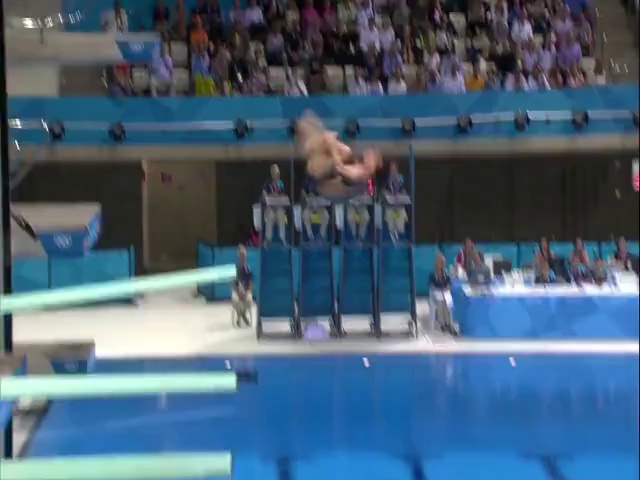diver: (288, 106, 390, 202)
